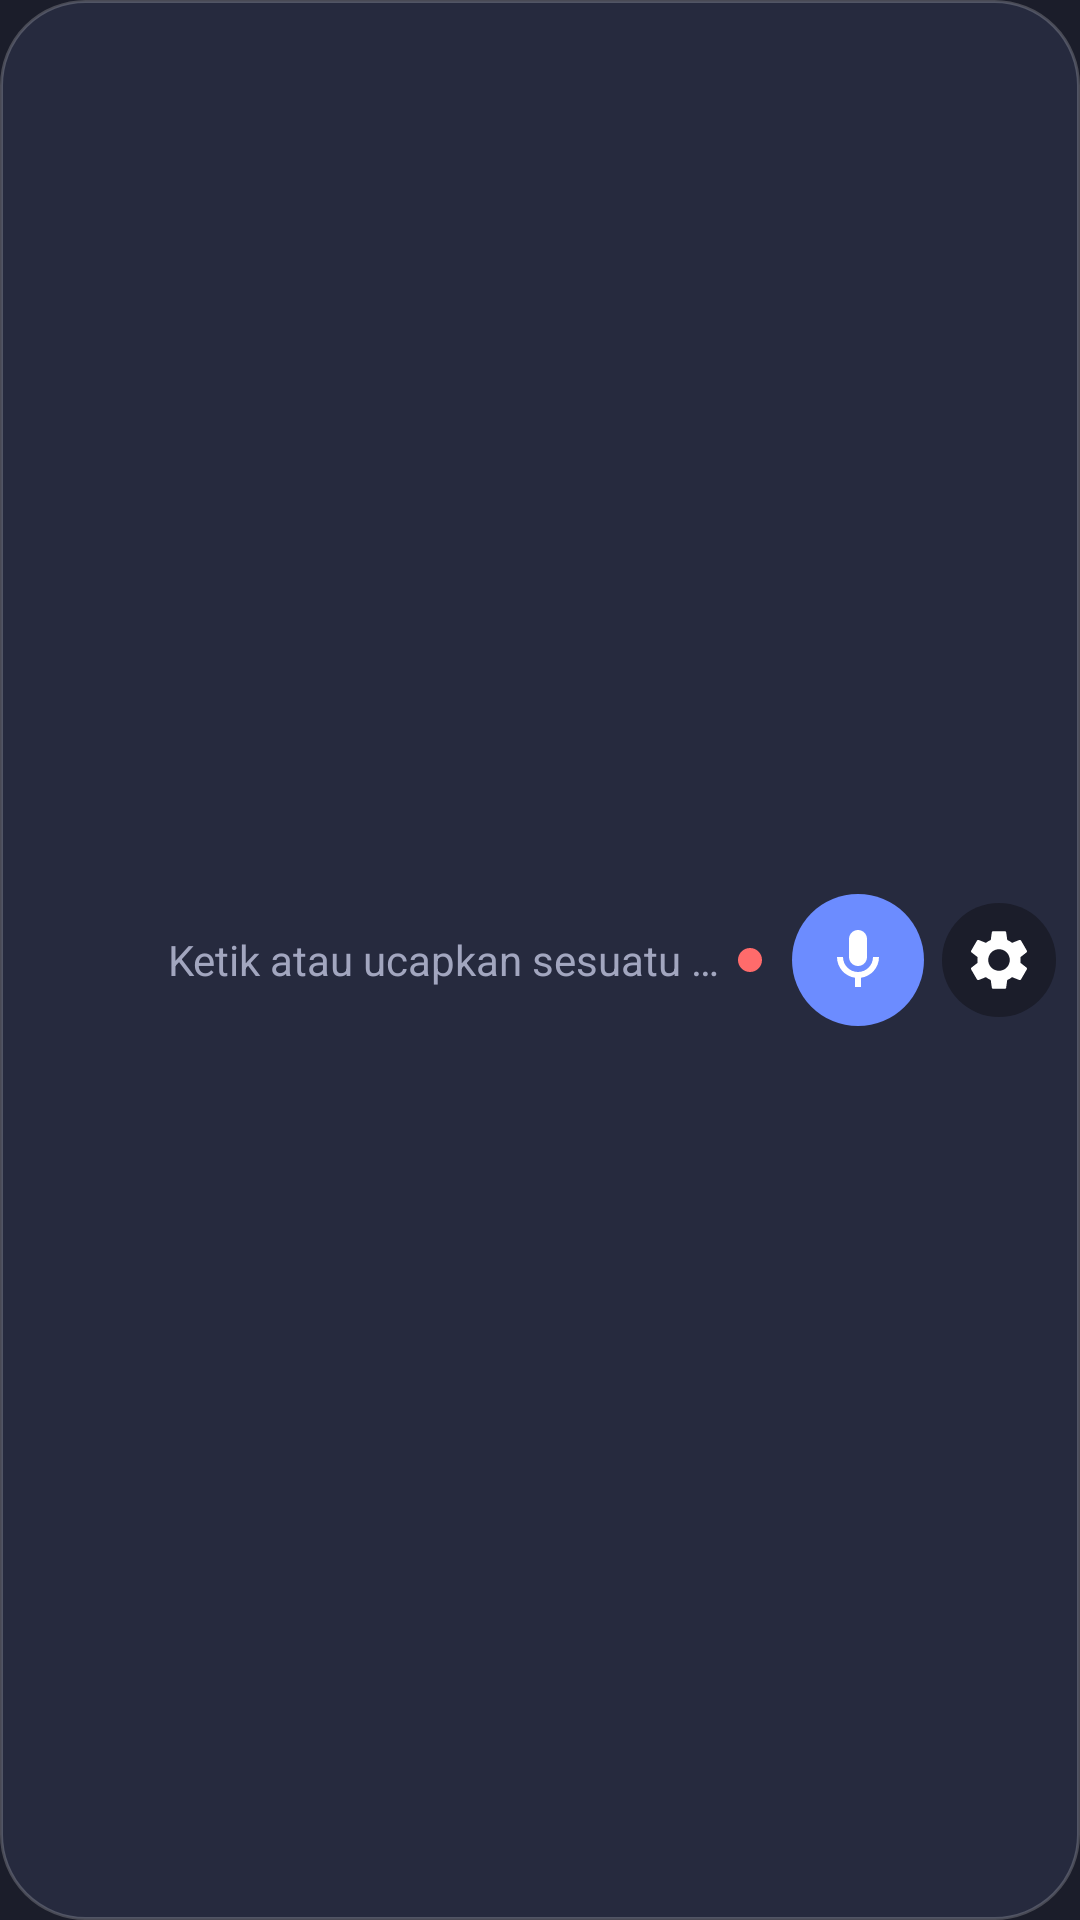

Named icons in this screenshot (1080x1920) and their centers, point (x, y):
Bicara ke Nara: point (858, 960)
Pengaturan: point (999, 960)
